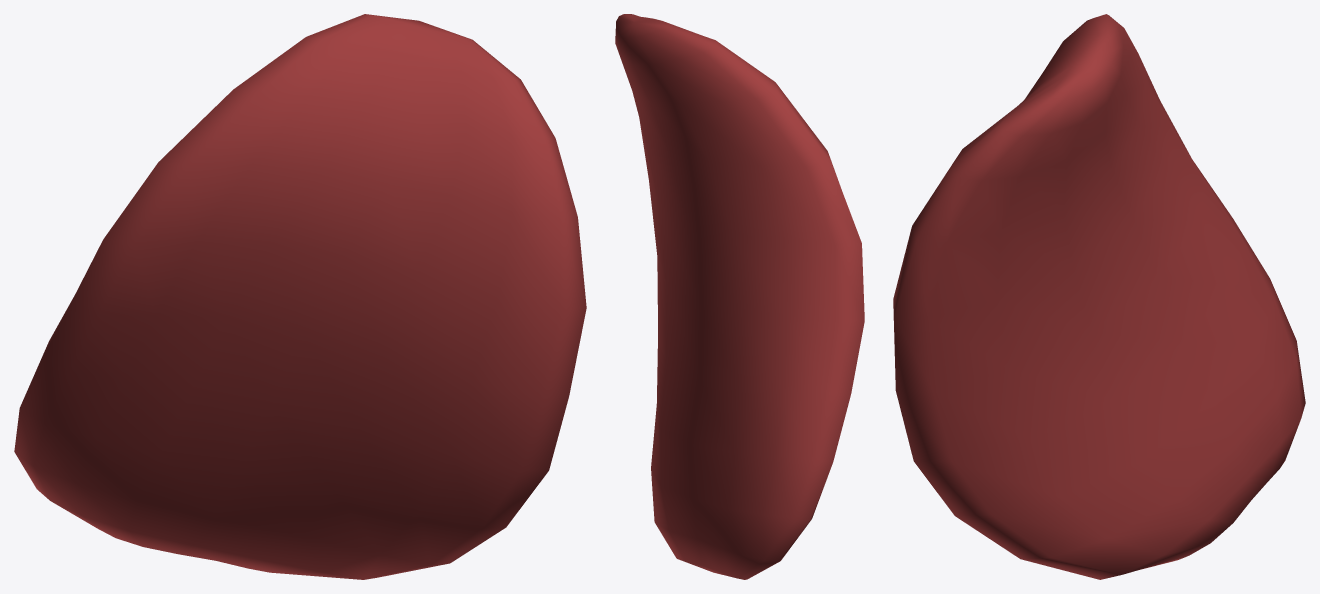
File: sciatic-bursa-of-obturator-internus-r.glb
The picture shows the model from 3 angles, left to right: view 1: azimuth 30°, elevation 25°; view 2: azimuth 150°, elevation 25°; view 3: azimuth 270°, elevation 25°; orthographic projection. The views are drawn at different scales.
Parts seen in each view (by area): view 1: Sciatic bursa of obturator internus.r; view 2: Sciatic bursa of obturator internus.r; view 3: Sciatic bursa of obturator internus.r.
Boxes of the visible parts, x1=… form: Sciatic bursa of obturator internus.r: x1=14, y1=14, x2=586, y2=579; Sciatic bursa of obturator internus.r: x1=615, y1=14, x2=864, y2=579; Sciatic bursa of obturator internus.r: x1=893, y1=14, x2=1305, y2=579.
Size of the model in its own units: 0.014 by 0.0199 by 0.0135.
